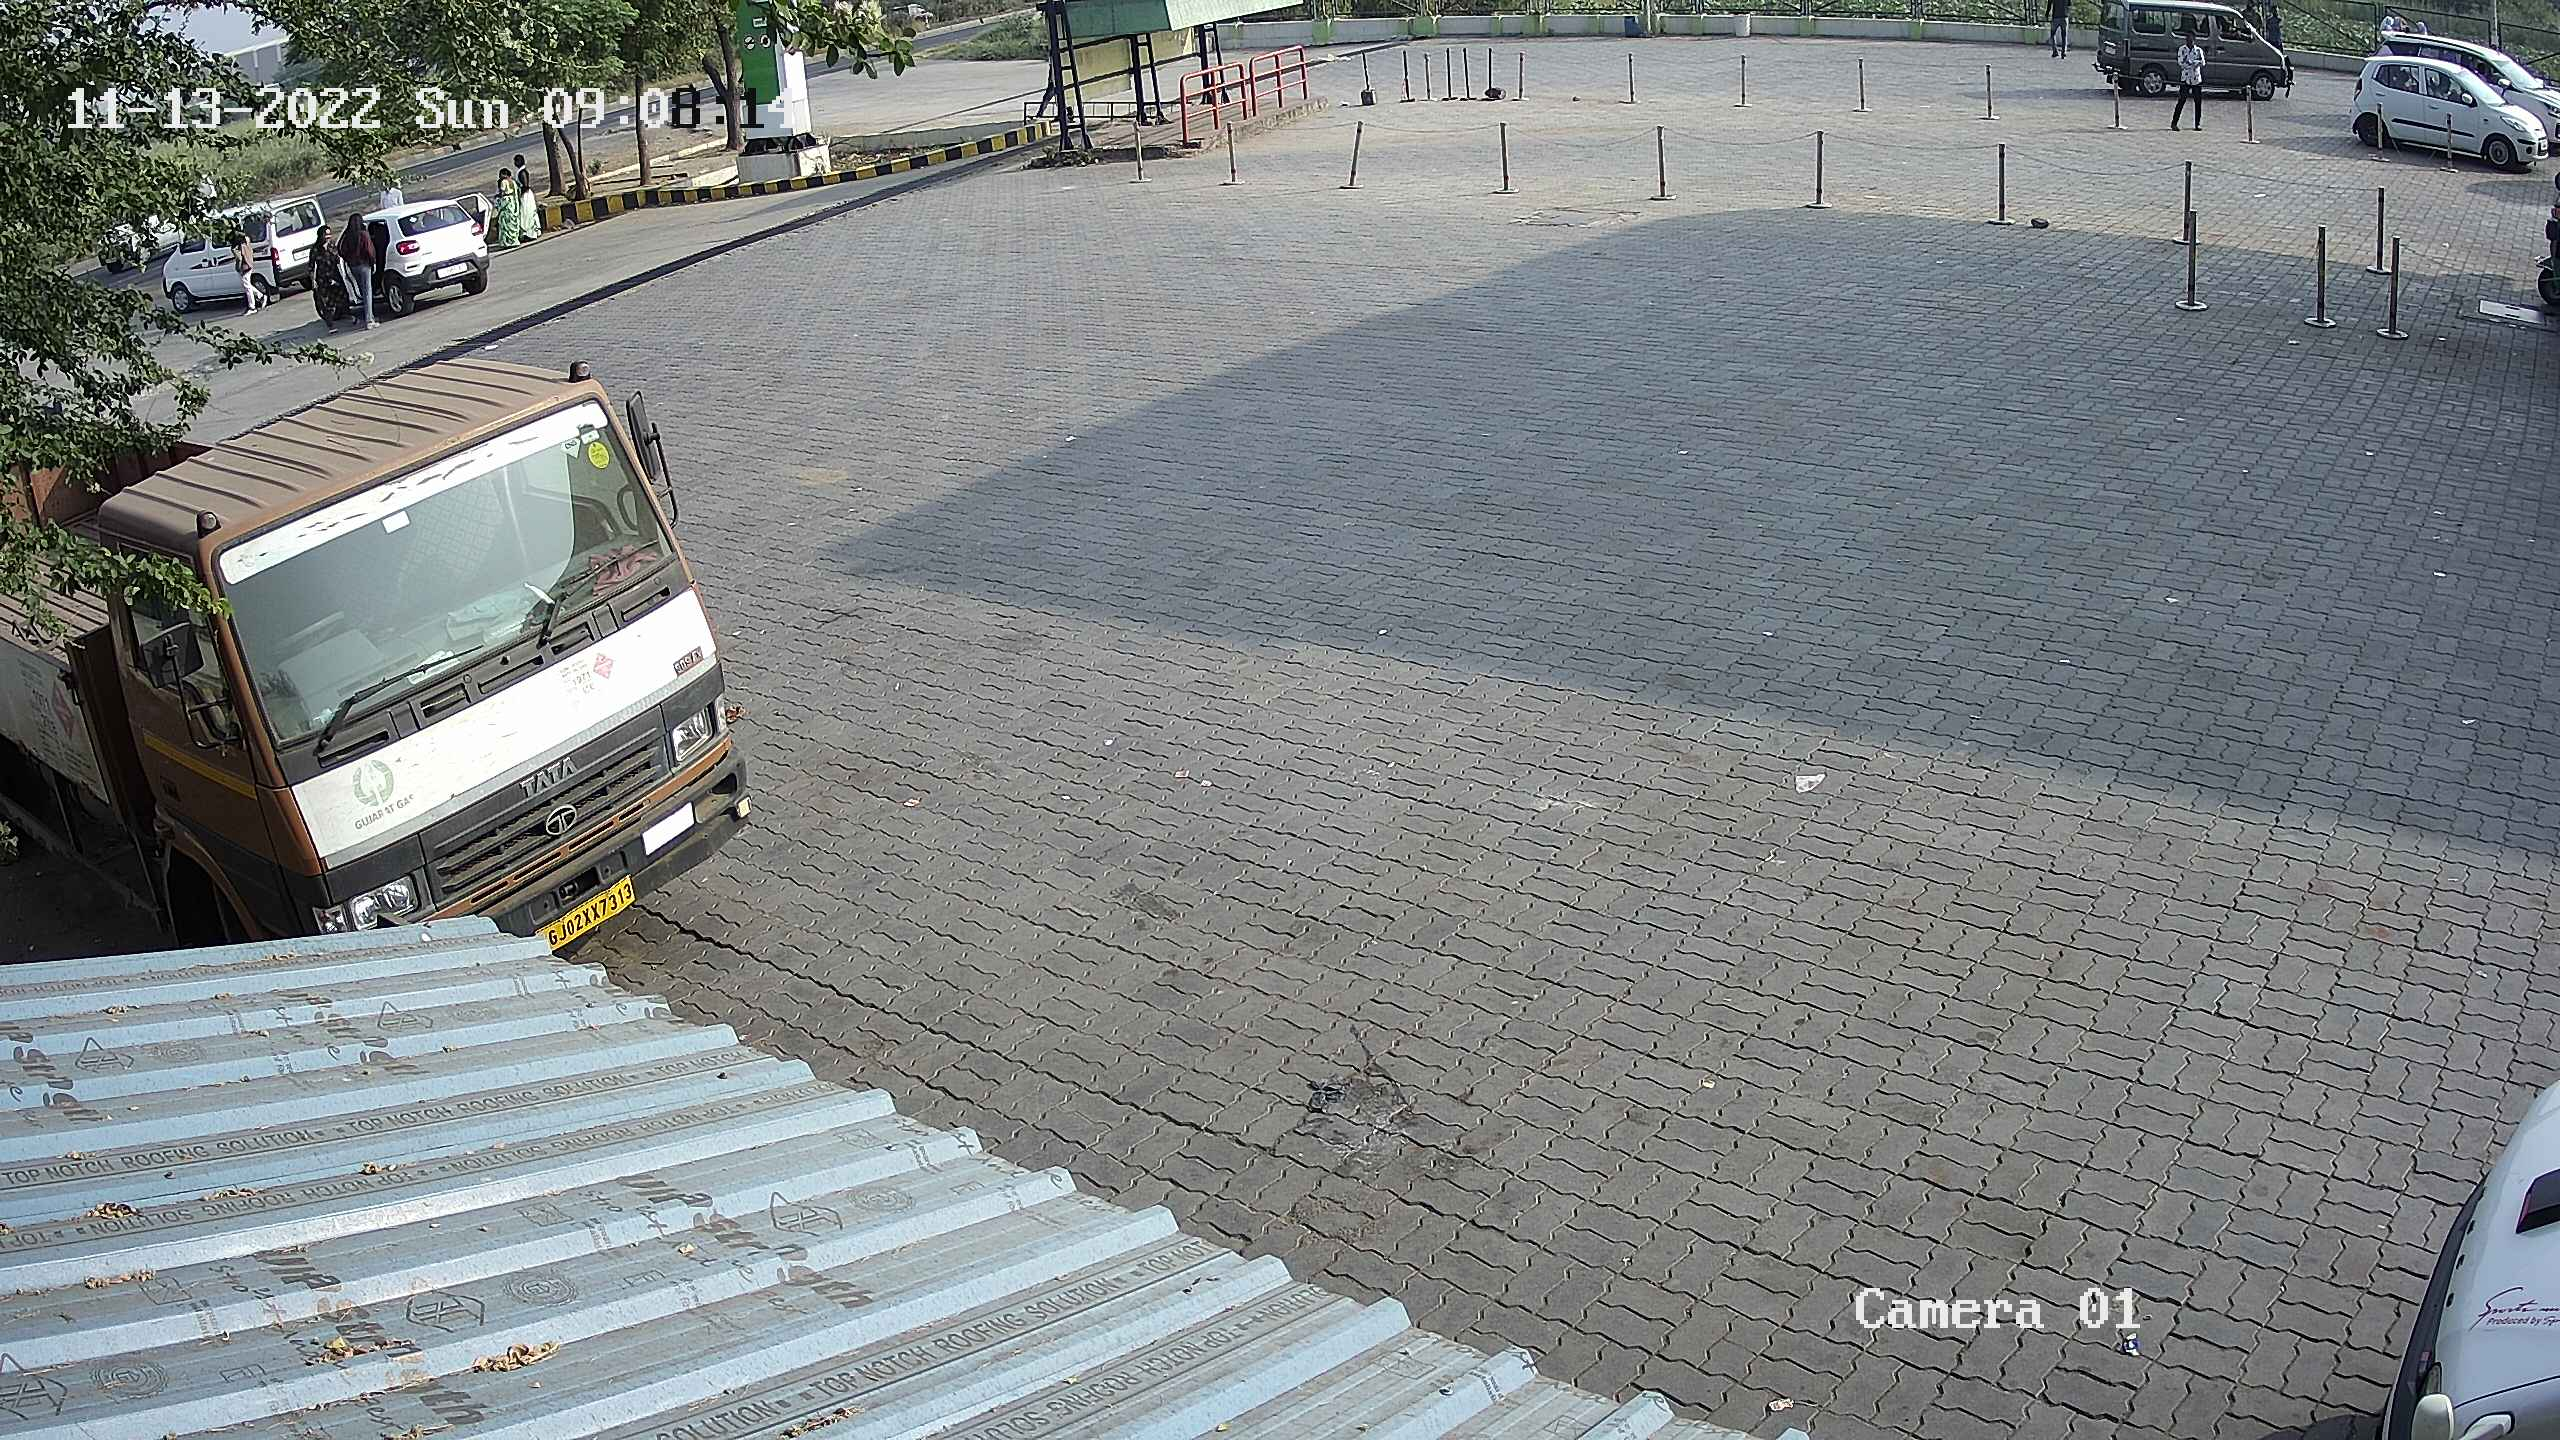Auto: (2518, 84, 2558, 338)
Car: (2361, 1051, 2558, 1436), (308, 179, 515, 318), (2347, 44, 2549, 178), (2365, 19, 2555, 160), (142, 193, 348, 322), (2084, 0, 2296, 105)
HMV: (0, 332, 767, 969)
